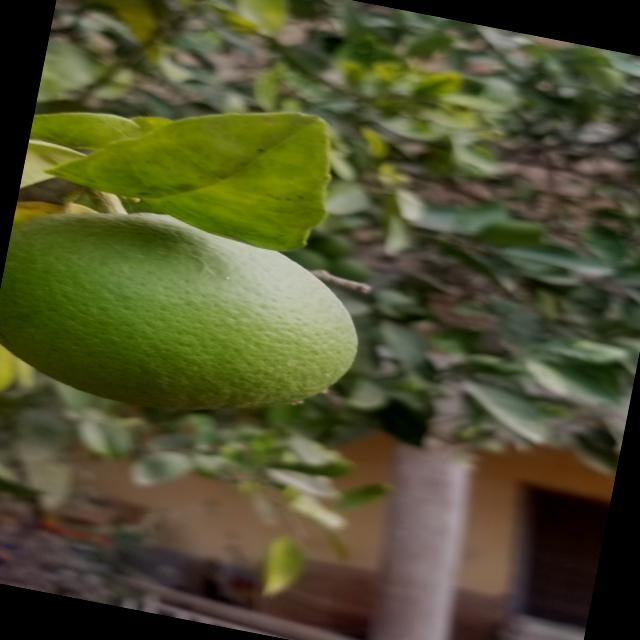agrume: (0, 185, 405, 461)
